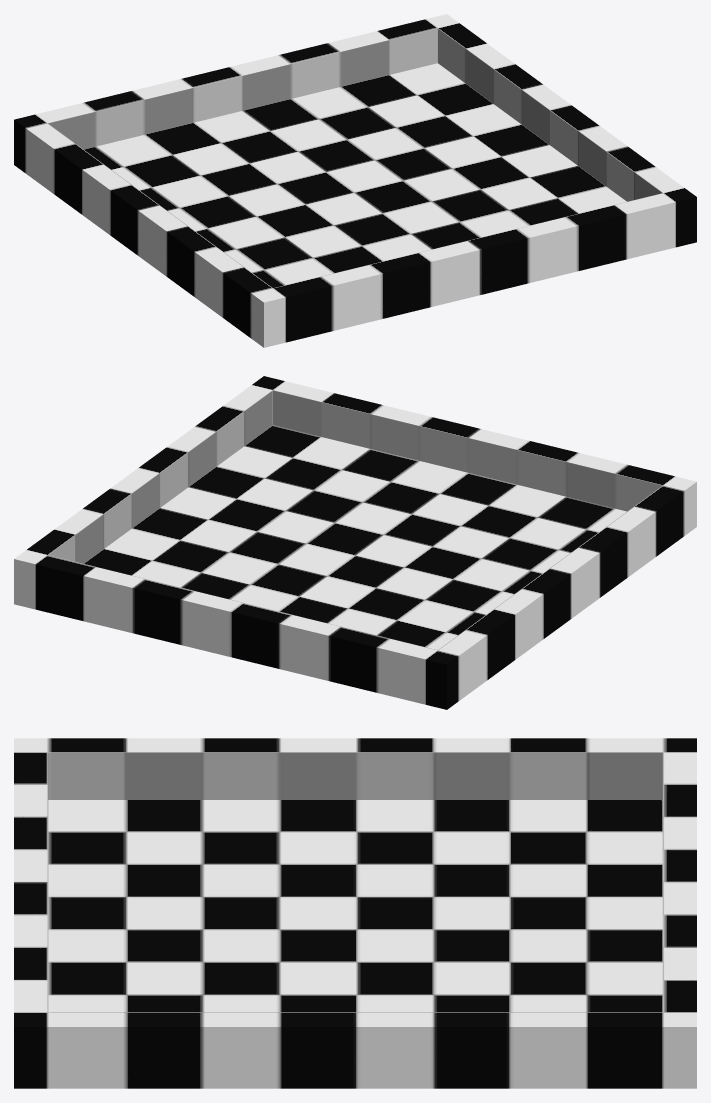
The model's file is Disboard.obj.
3 views of the same model, one above another, from view 1: azimuth 30°, elevation 25°; view 2: azimuth 150°, elevation 25°; view 3: azimuth 270°, elevation 25° (orthographic). The views are drawn at different scales.
Visible parts, largest first — view 1: pCube3; view 2: pCube3; view 3: pCube3.
Boxes of the visible parts, left/top/right/bottom form: pCube3: left=14, top=14, right=696, bottom=347; pCube3: left=14, top=376, right=696, bottom=709; pCube3: left=14, top=738, right=696, bottom=1088.
Size of the model in its own units: 100 by 10 by 100.
Materials: 1 (1 with a texture image).
